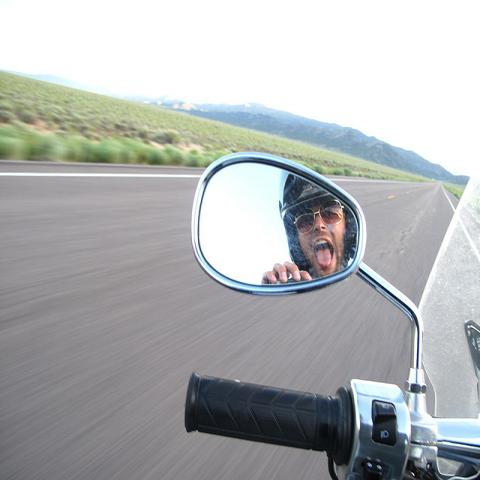motorcycle: (183, 144, 478, 472)
